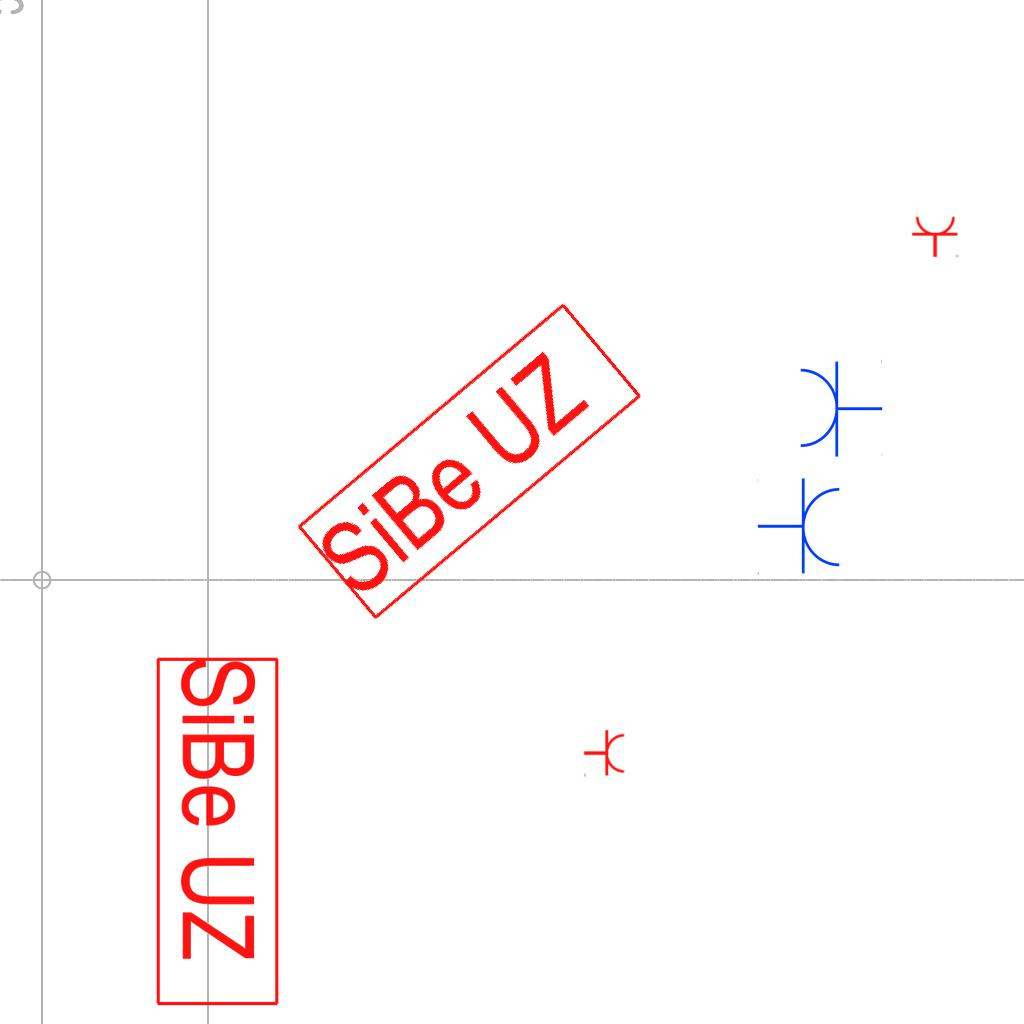Schukosteckdose_einfach: (796, 358, 883, 458), (757, 477, 844, 577), (911, 215, 961, 258), (583, 729, 626, 779)
Zentrale_Sicherheitsbeleuchtung: (291, 296, 650, 626), (152, 654, 282, 1011)
